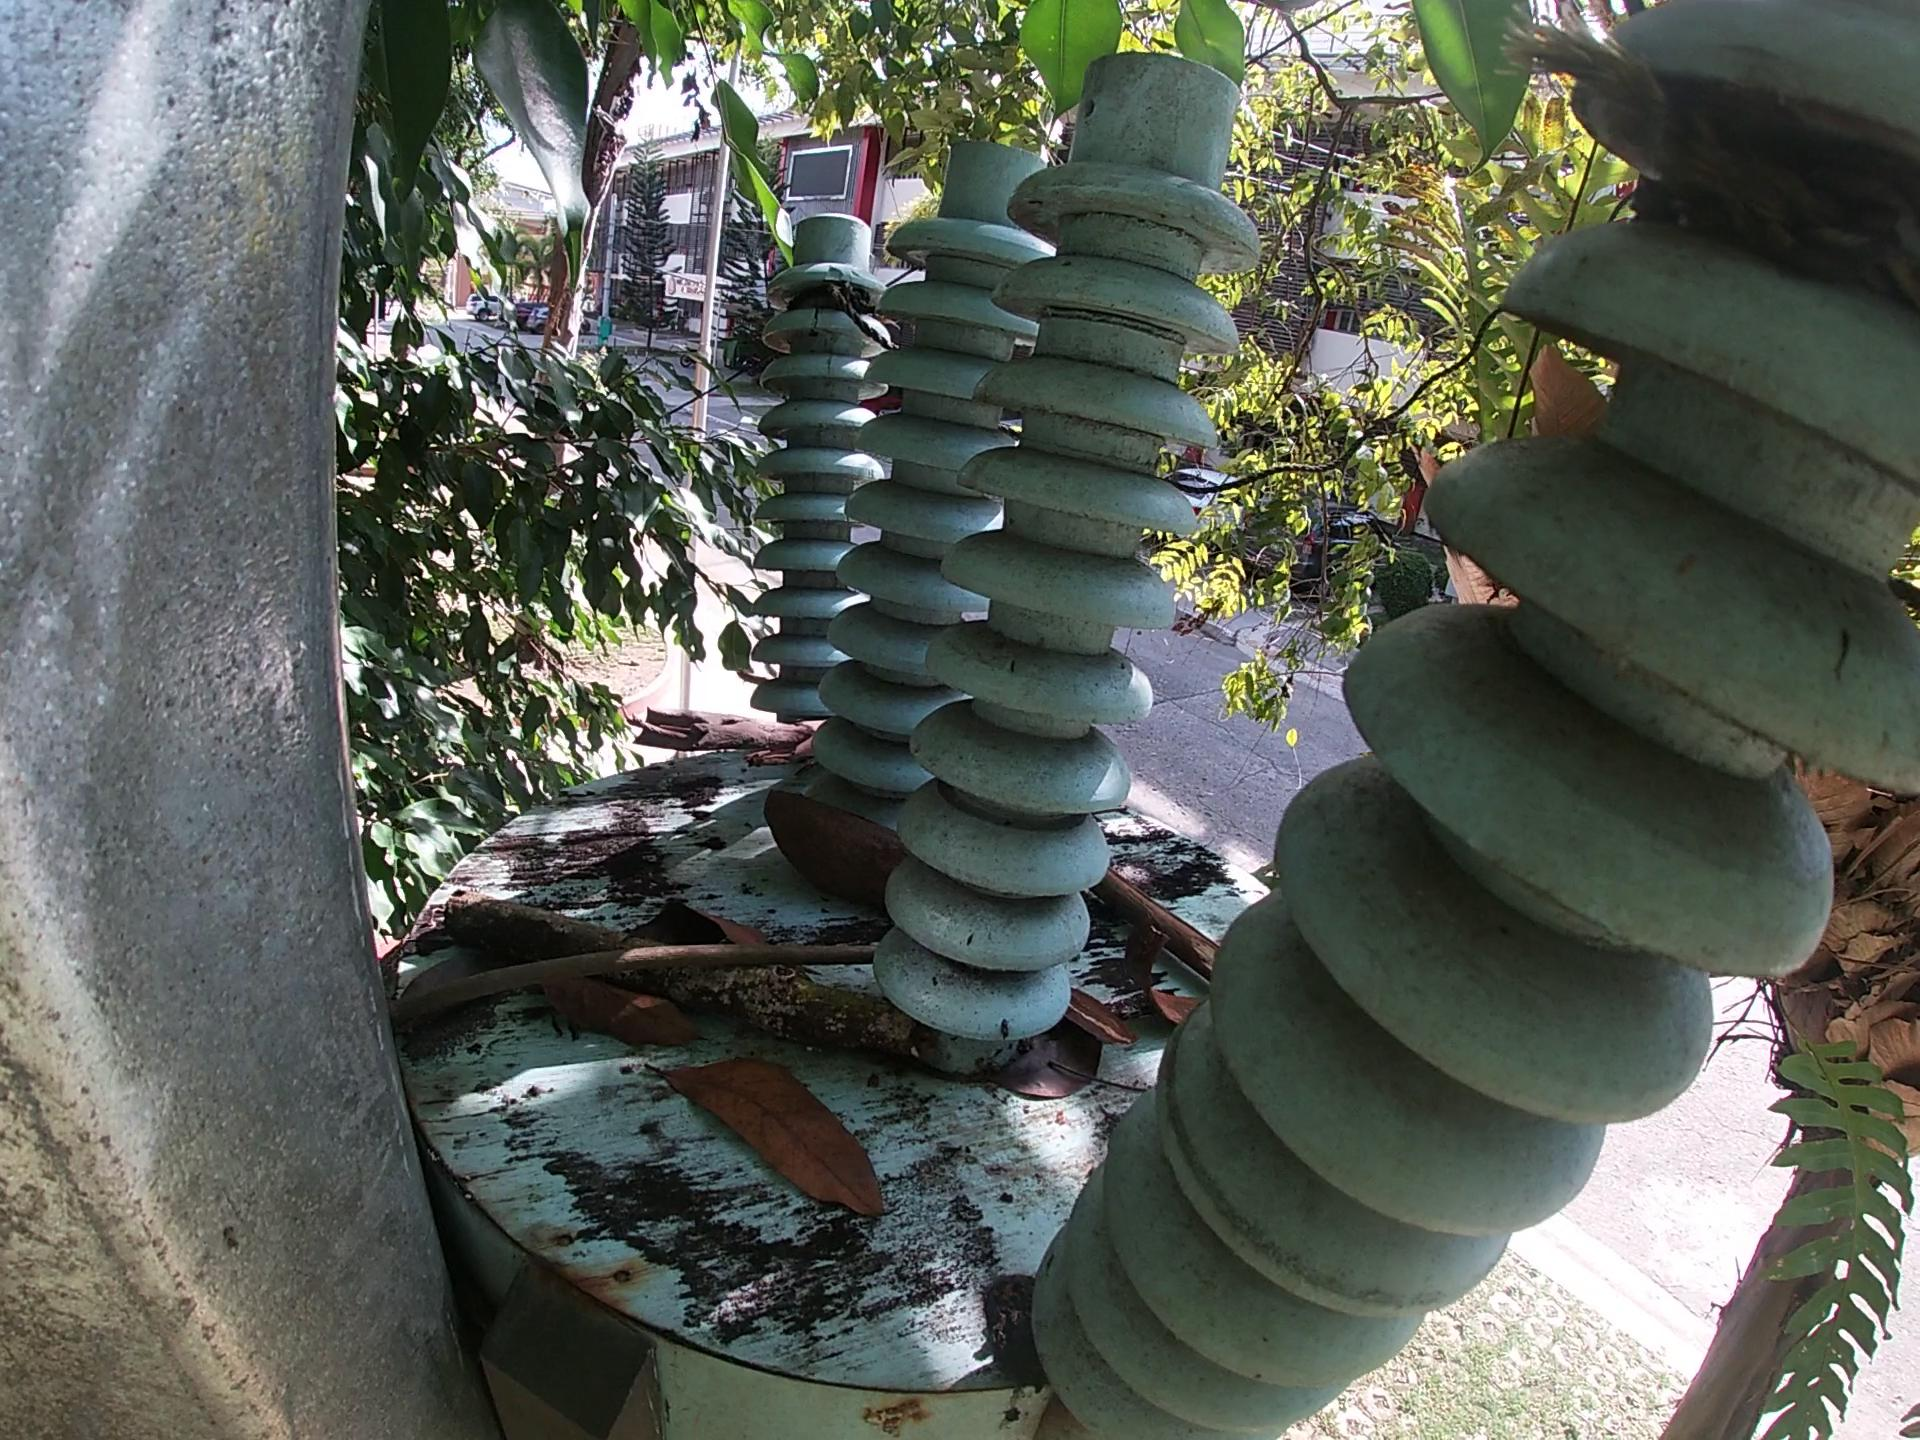leaf: (652, 1063, 937, 1237), (396, 970, 513, 1075), (562, 992, 705, 1053), (987, 1032, 1105, 1101), (629, 903, 760, 942)
mahogany fruit: (759, 781, 900, 876), (1126, 939, 1185, 1023)
tree branch: (434, 886, 924, 1062), (384, 936, 874, 1021), (612, 700, 827, 787), (1098, 859, 1226, 973), (1057, 1066, 1143, 1112), (1076, 992, 1140, 1048)
